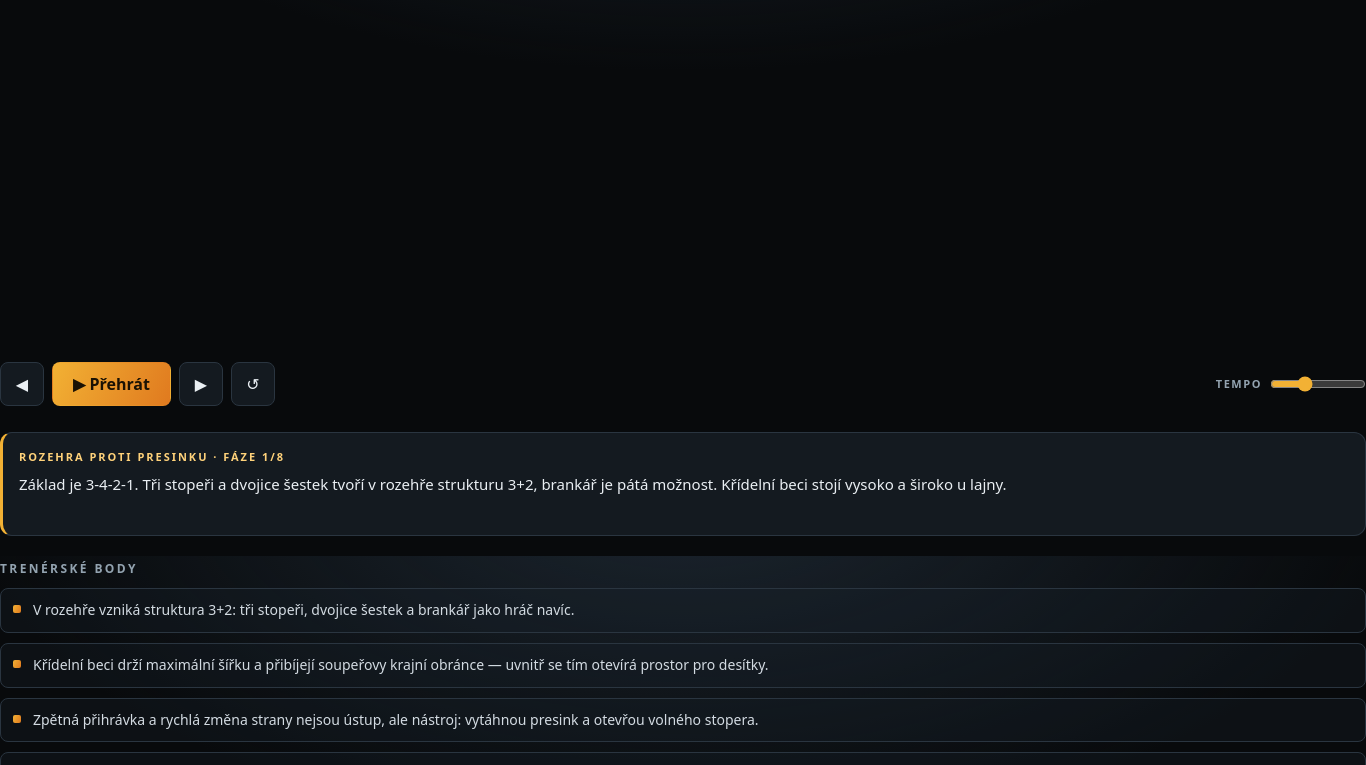
TacticPlayer › krokovani dopredu zobrazi text dalsi faze
(page scrolled)
Click the button named "Další fáze" at [201, 384], box x1=179 y1=362 x2=223 y2=406
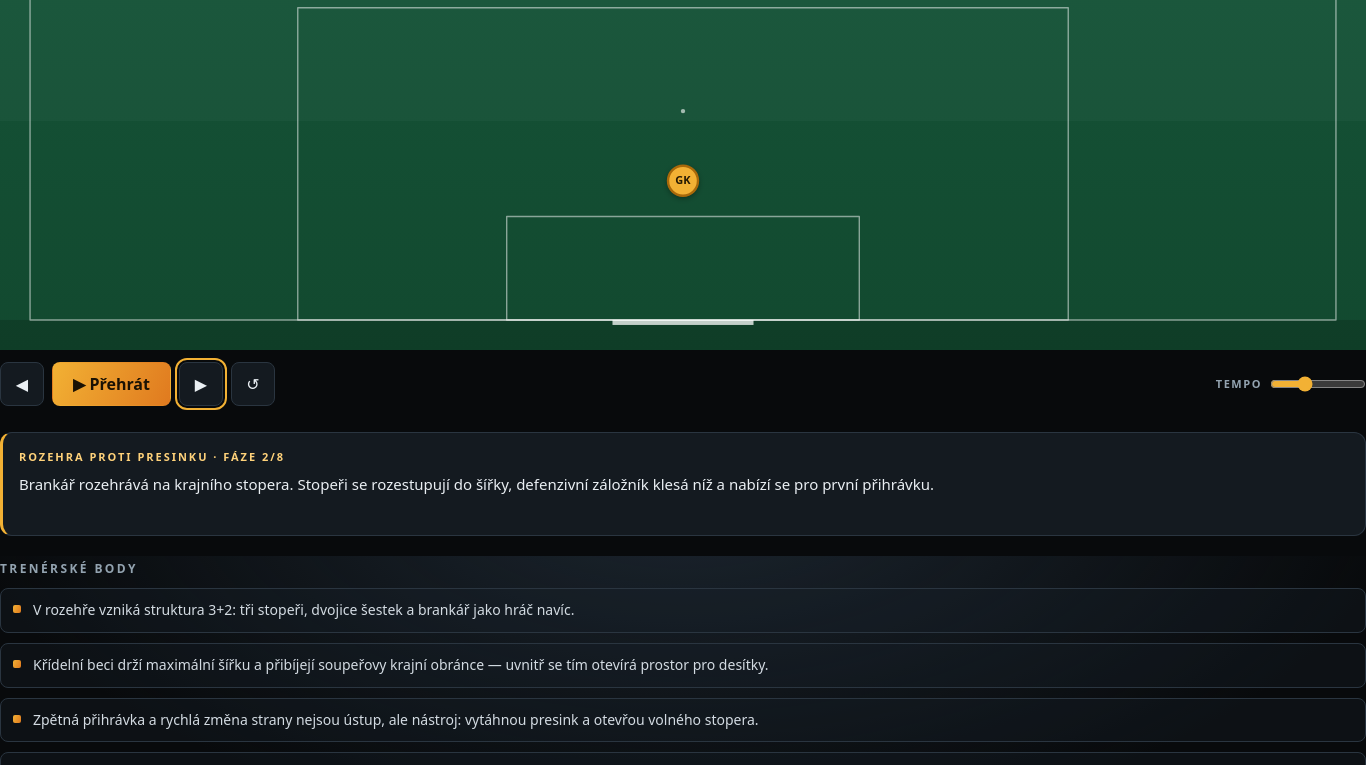
expect the text "Brankář rozehrává na krajního stopera. Stopeři se rozestupují do šířky, defenzivní záložník klesá níž a nabízí se pro pr" is shown: met, box x1=19 y1=474 x2=934 y2=494
